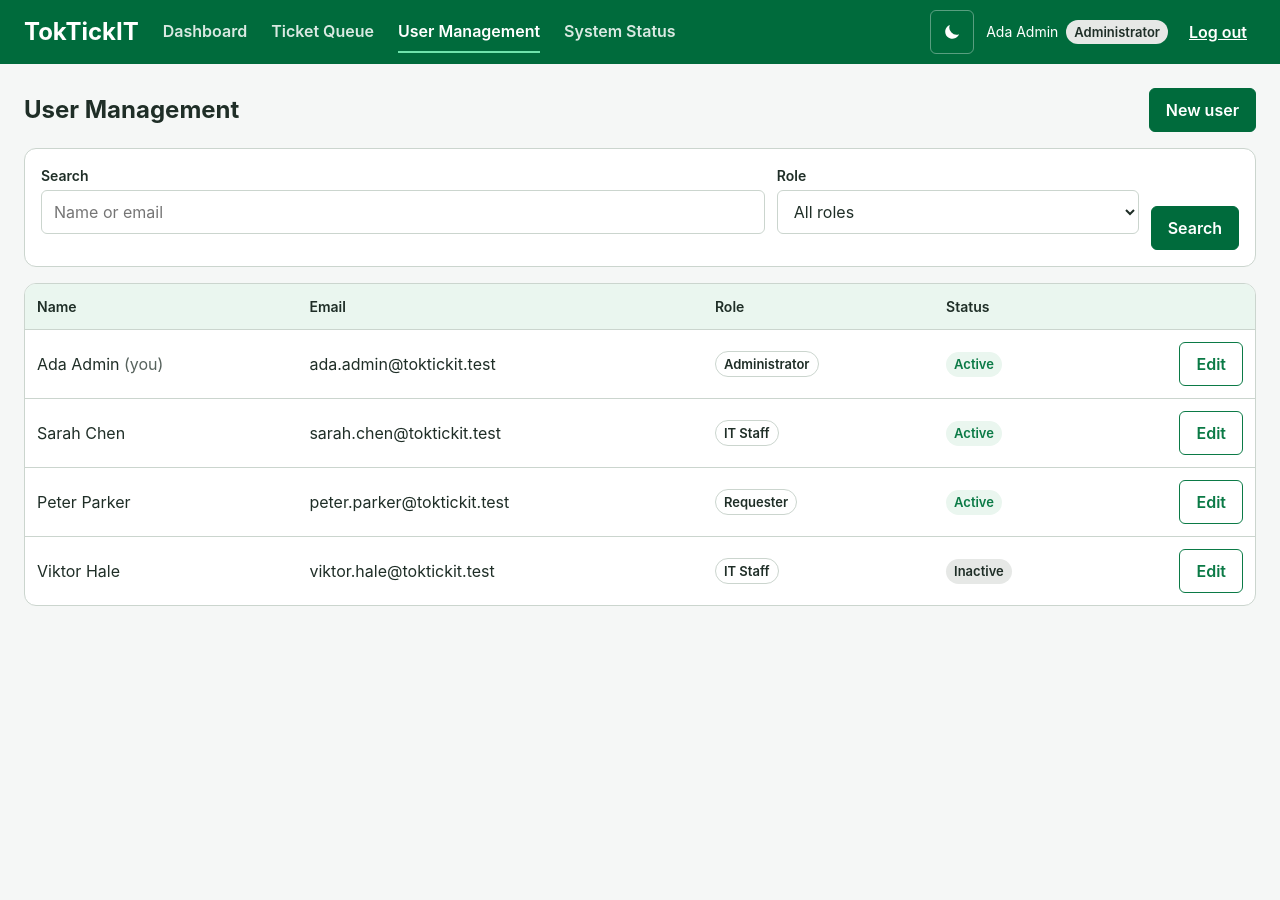
UI-19 creating a user (AC-37) › sends one request with the form as filled, closes, and says what happens next
The width and height of the screenshot is (1280, 900).
Expected: the heading "User Management" is shown, [24,96,239,124]
Step 1. Click the button "New user" → (1202, 110), box [1149,88,1256,132]
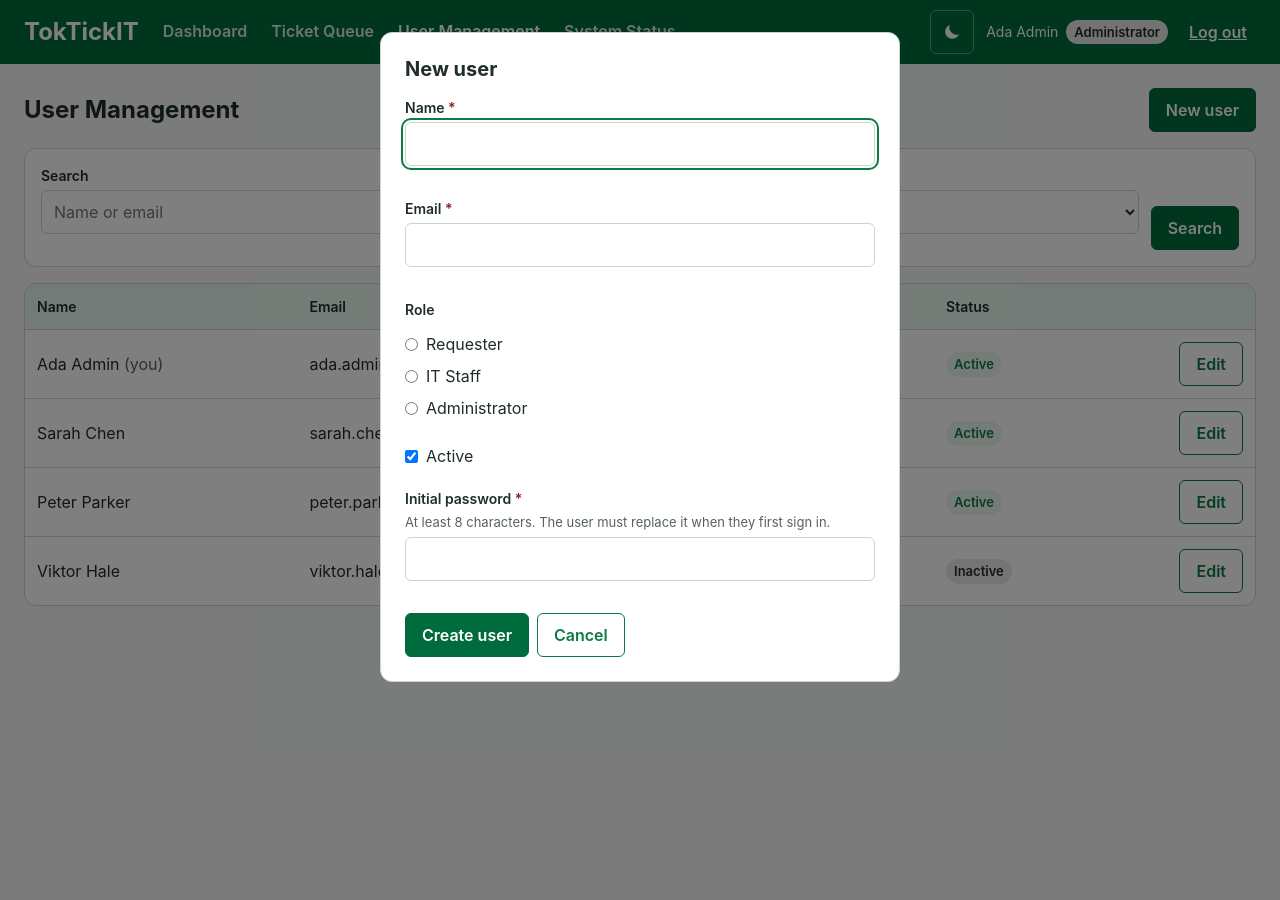
Step 2. Type "Jane Doe" into the field labelled "Name *" → (640, 144), box [405,122,875,166]
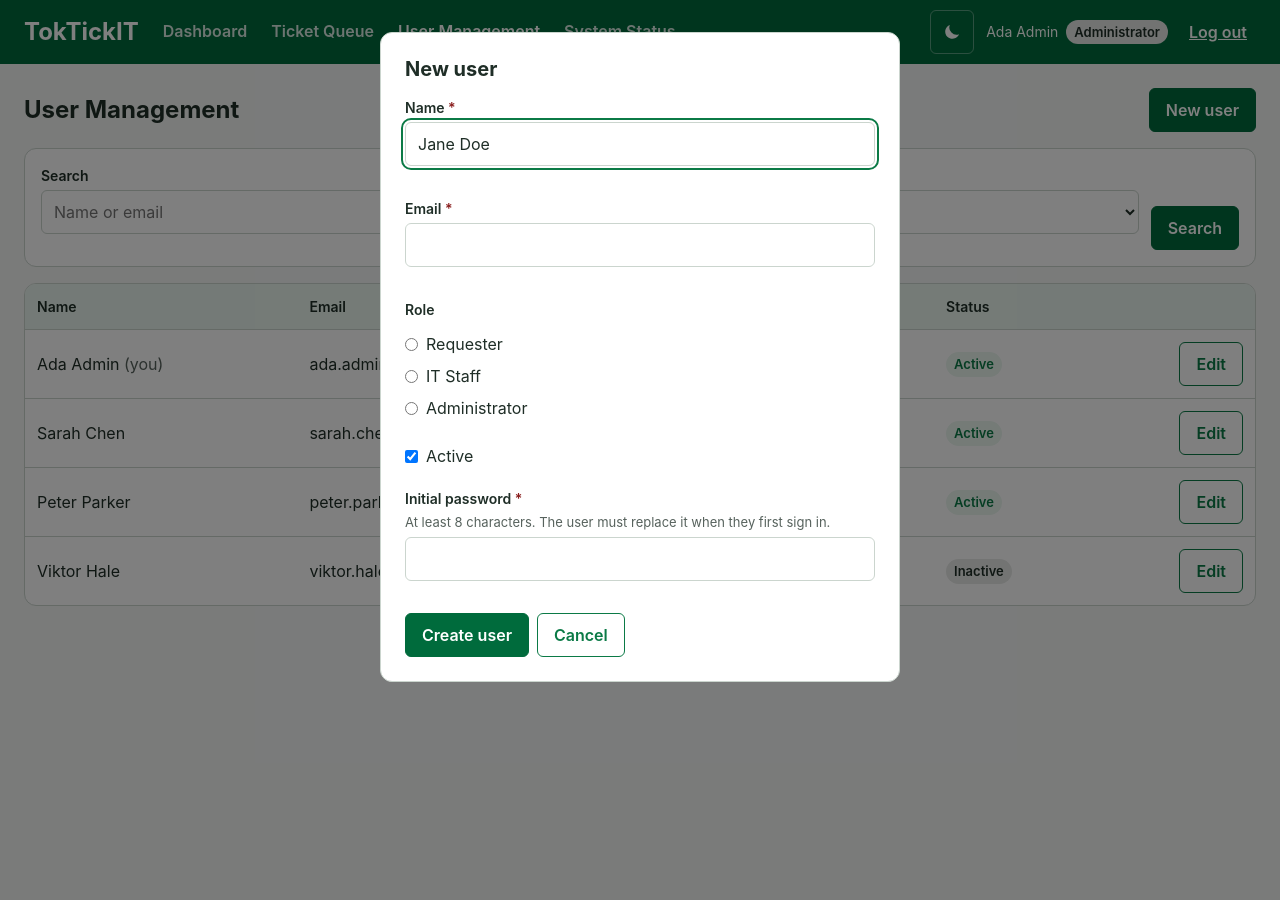
Step 3. Type "jane.doe@toktickit.test" into the field labelled "Email *" → (640, 245), box [405,223,875,267]
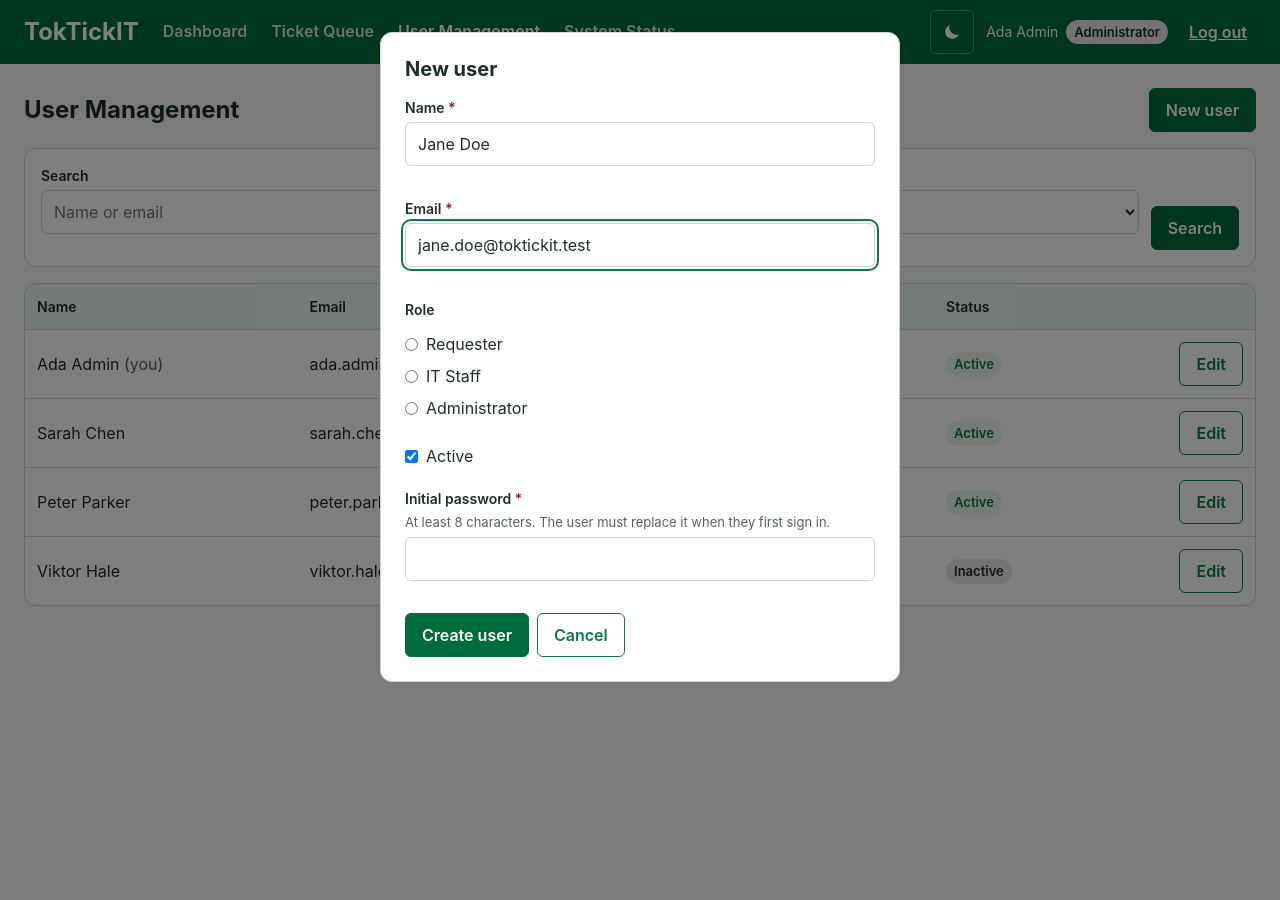
Step 4. Click the radio button labelled "IT Staff" → (412, 376), box [405,370,418,382]
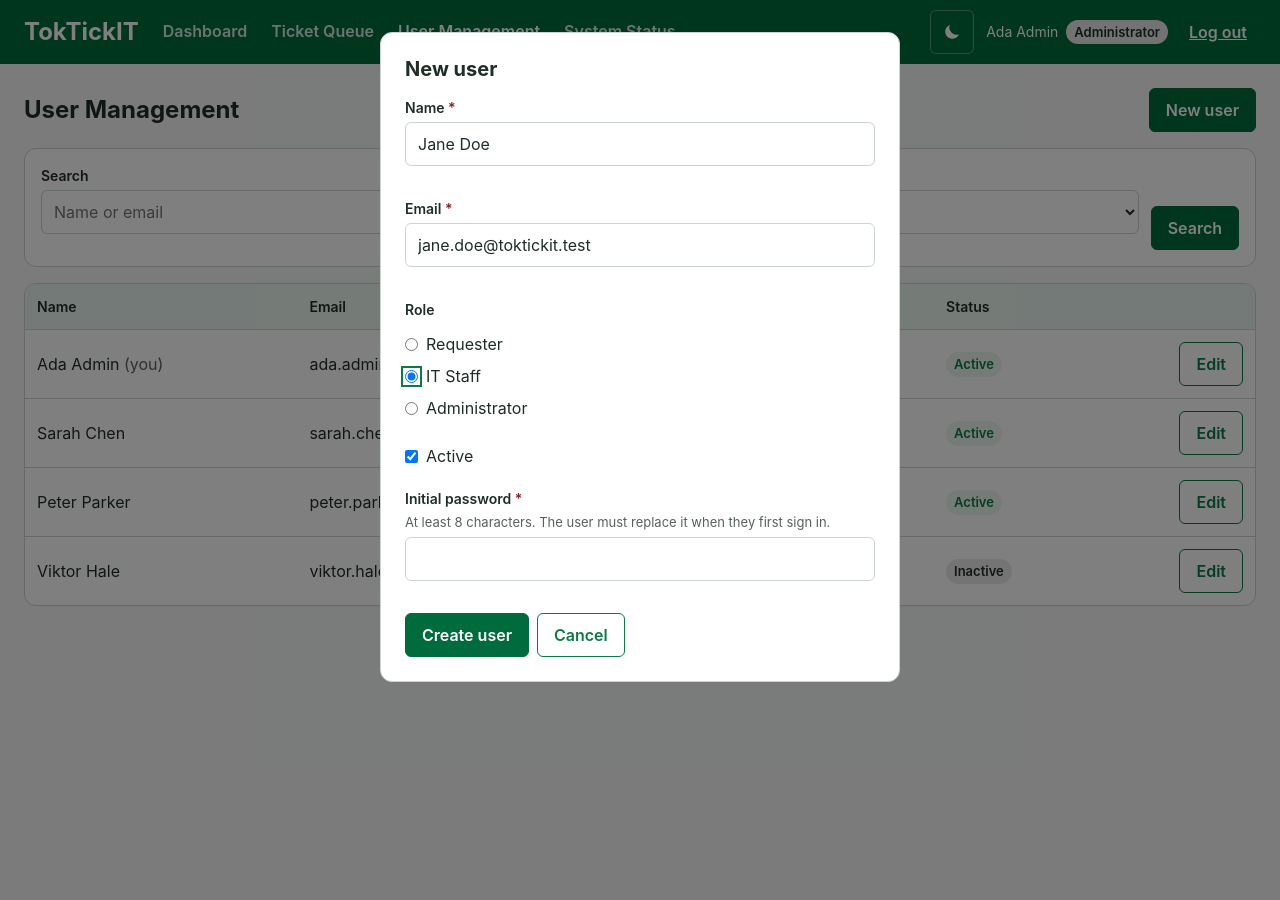
Step 5. Type "Initial123!" into the password field labelled "Initial password *" → (640, 558), box [405,536,875,580]
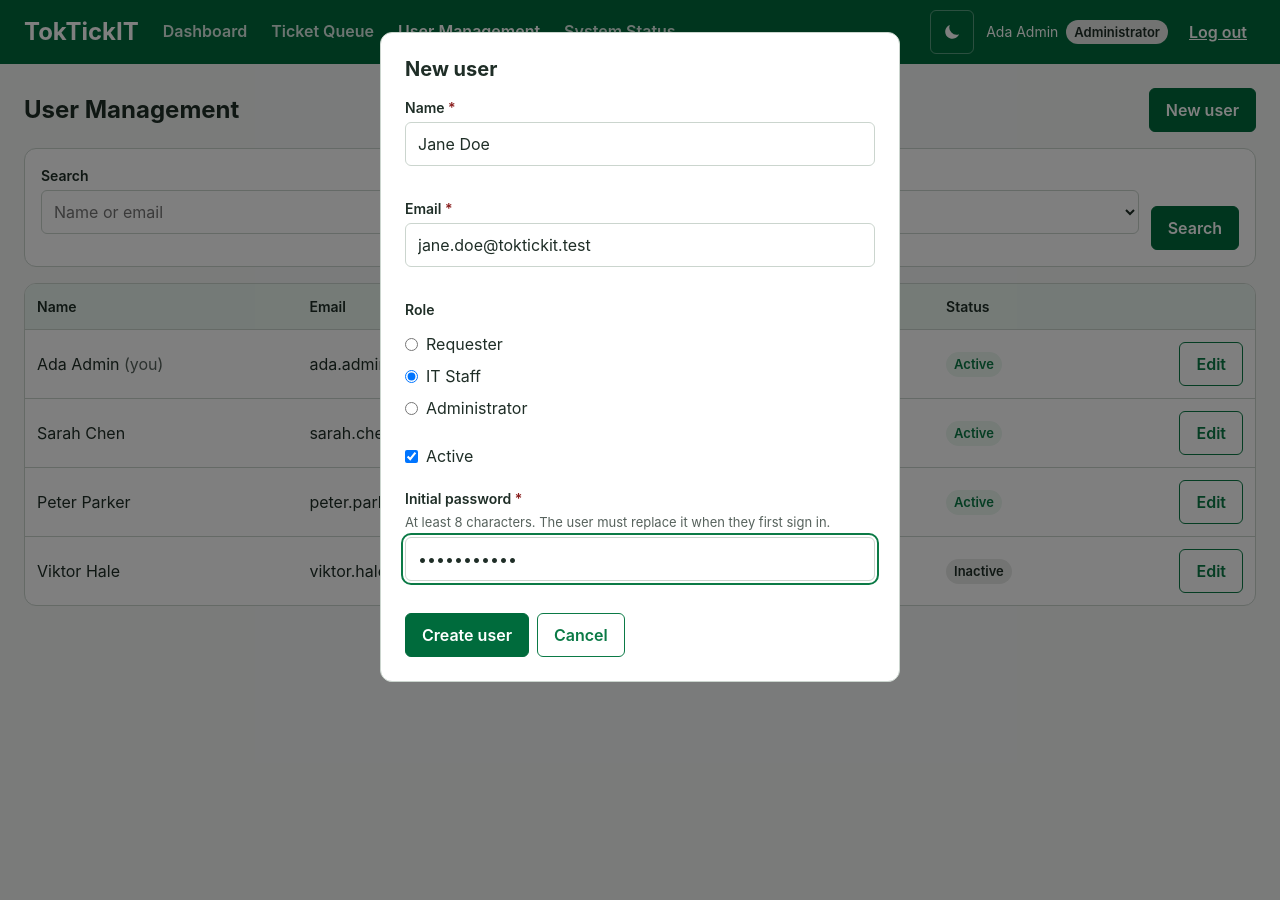
Step 6. Click the button "Create user" → (467, 634), box [405,612,529,656]
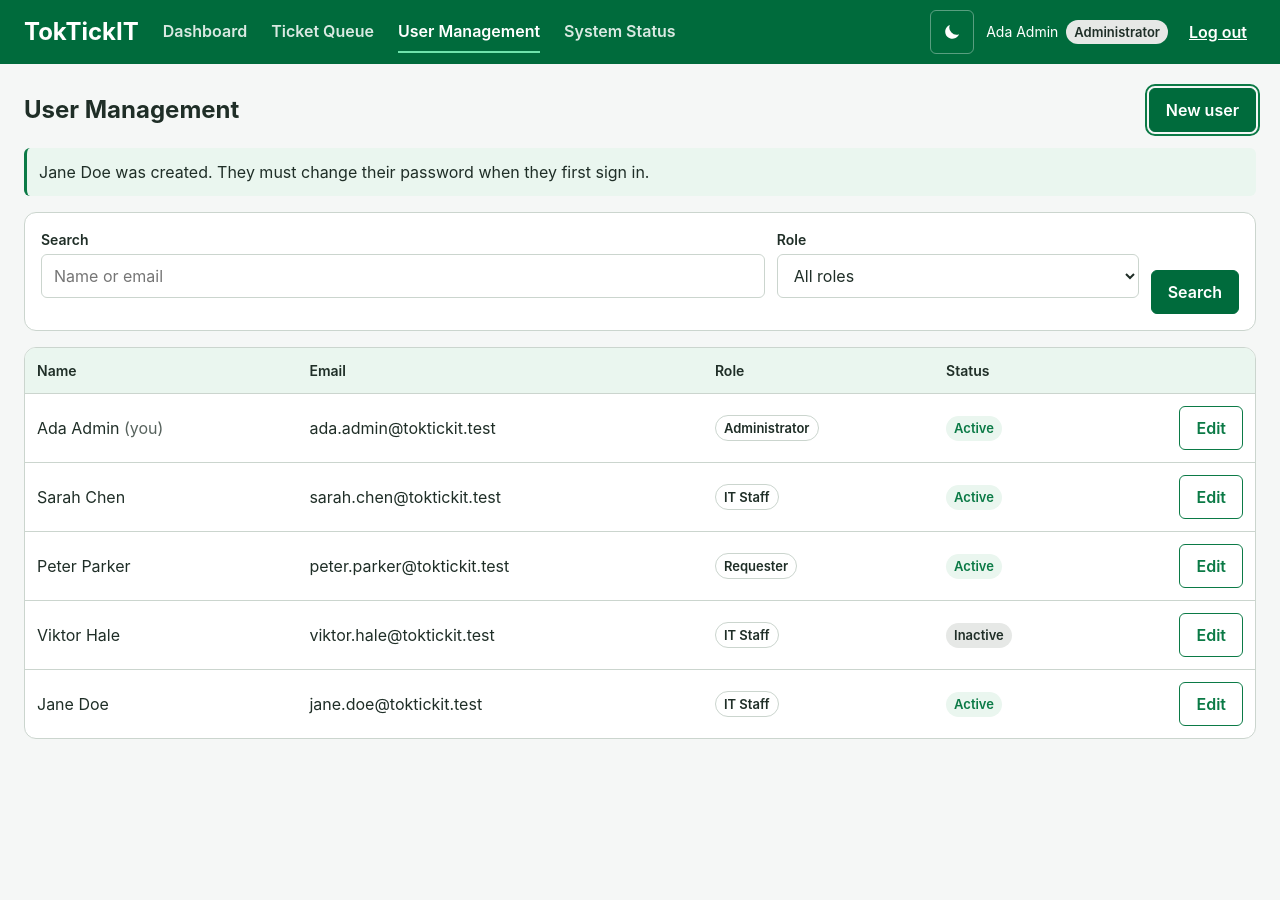
Now the dialog is gone
Now the message reads "Jane Doe was created. They must change their password when they first sign in.", box [39,162,650,182]
Now the text "Jane Doe" is shown, box [25,670,297,738]
